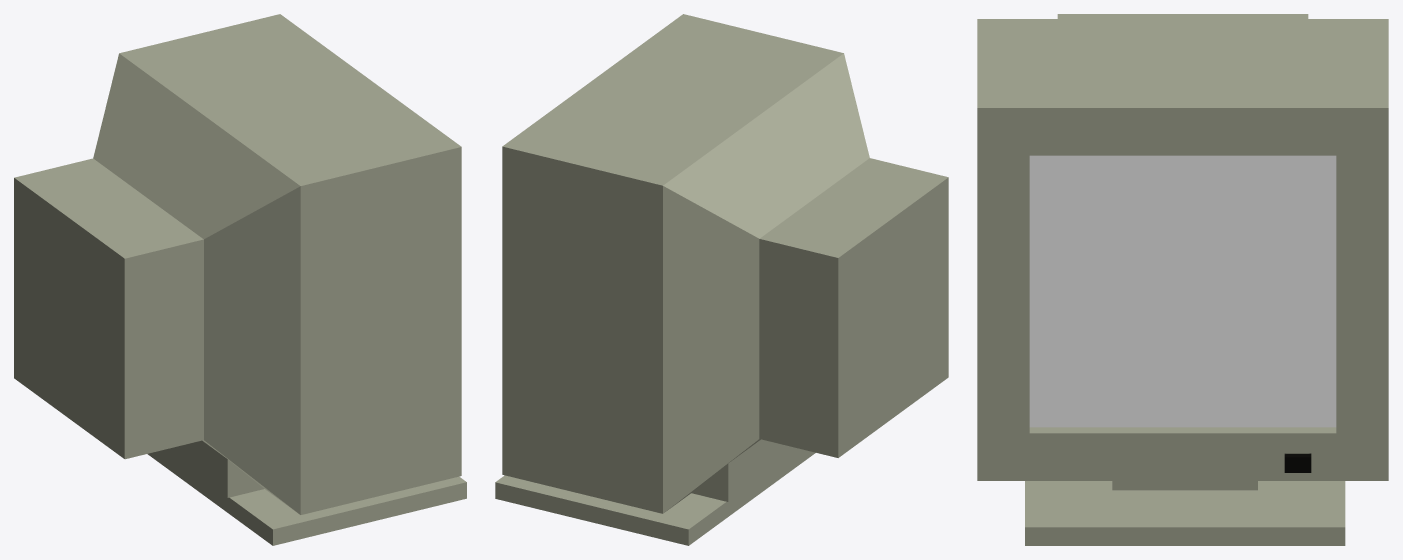
File: monitorOld.fbx
3 renders of one model, left to right at view 1: azimuth 30°, elevation 25°; view 2: azimuth 150°, elevation 25°; view 3: azimuth 270°, elevation 25°, orthographic. The views are drawn at different scales.
Parts seen in each view (by area): view 1: Pc; view 2: Pc; view 3: Pc.
Part boxes in pixels (<box>): Pc: <box>14,14,466,545</box>; Pc: <box>495,14,948,545</box>; Pc: <box>977,14,1388,545</box>.
Size of the model in its own units: 2.08 by 2 by 2.27.
